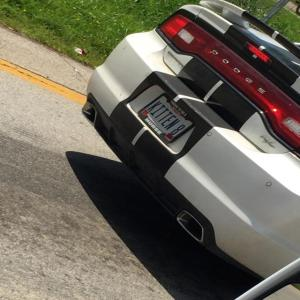Plate: (136, 94, 195, 144)
